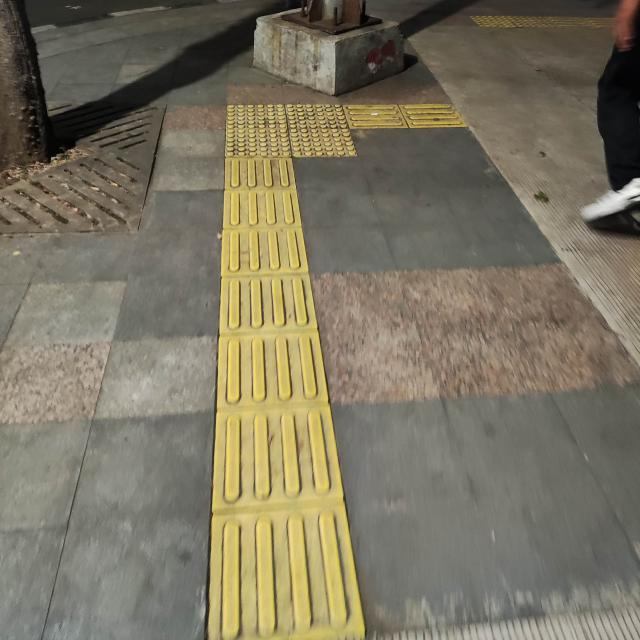kanan: (190, 81, 447, 200)
